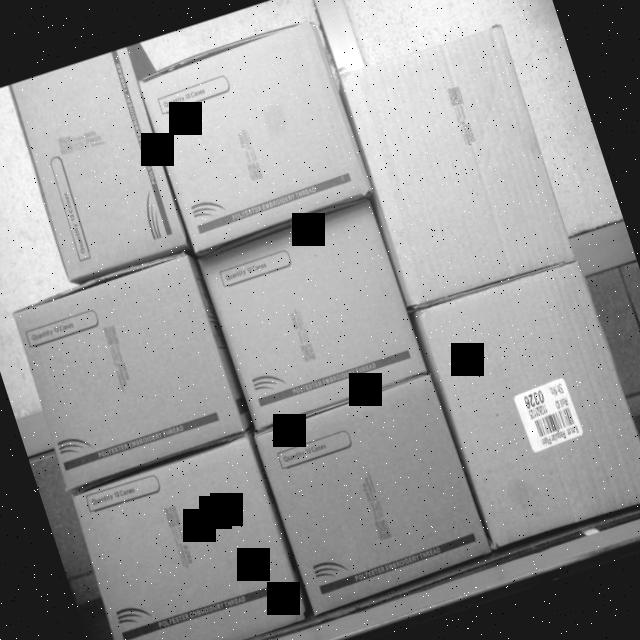box: (332, 17, 578, 309), (415, 253, 640, 552), (251, 368, 491, 615), (12, 250, 250, 490), (135, 18, 375, 256), (62, 432, 312, 640), (200, 201, 428, 424), (7, 46, 189, 278)
